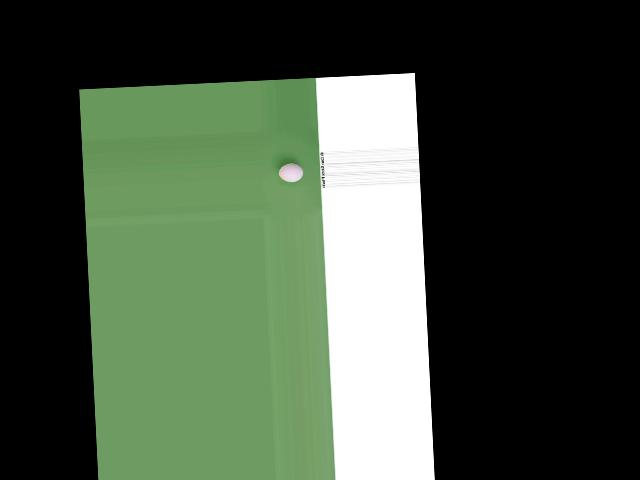egg: (278, 163, 303, 182)
